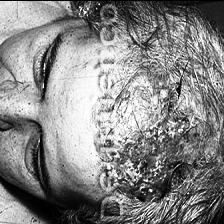Potentially Malignant Skin Tumors: (93, 67, 210, 202)
